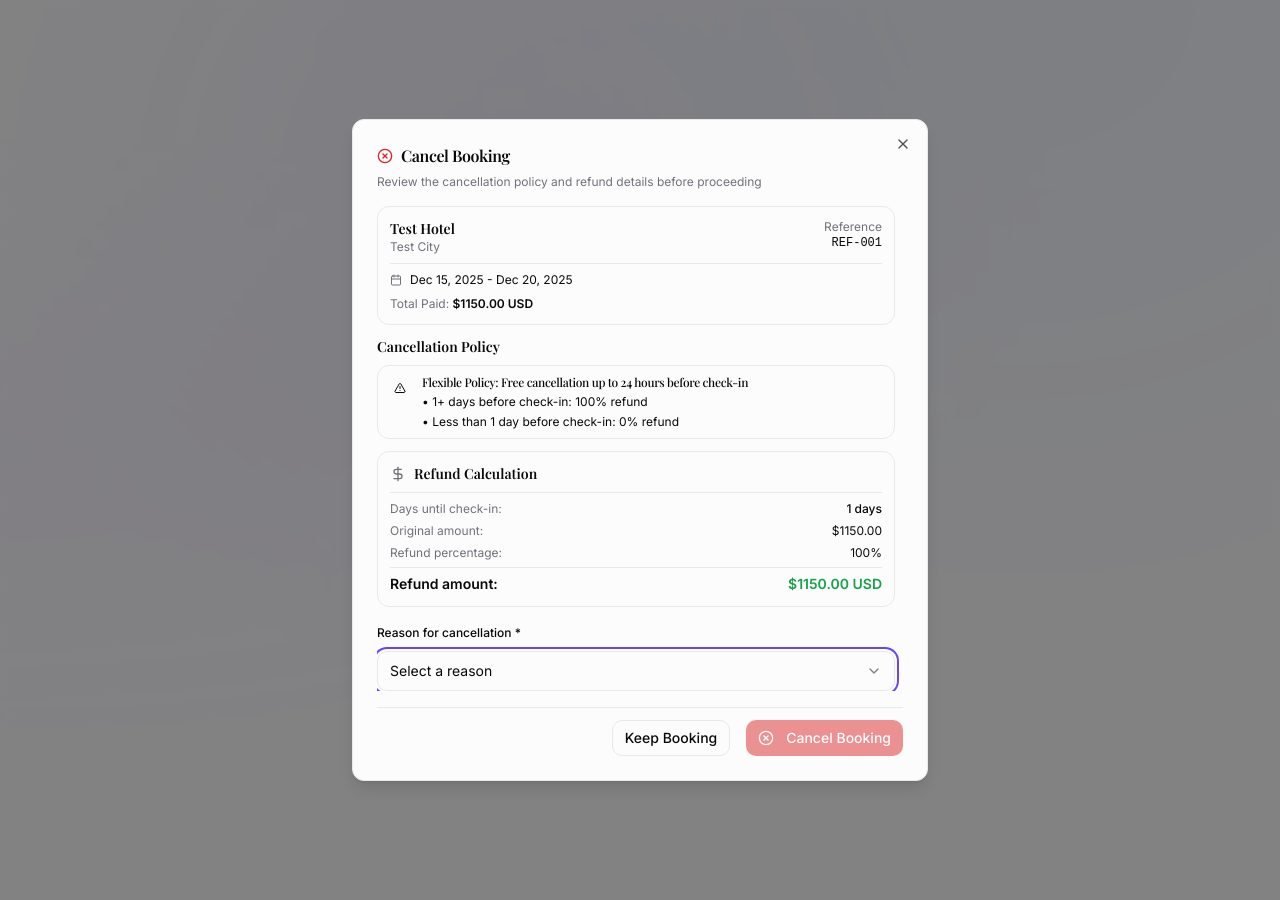
it: CancelBooking › Cancellation Flow › should require reason selection before enabling cancel button
This screenshot has width=1280, height=900.
Check: the button "Cancel Booking" is disabled, box [746,720,903,756]
Step 1. Click the dropdown → (441, 670), box [377,651,895,691]
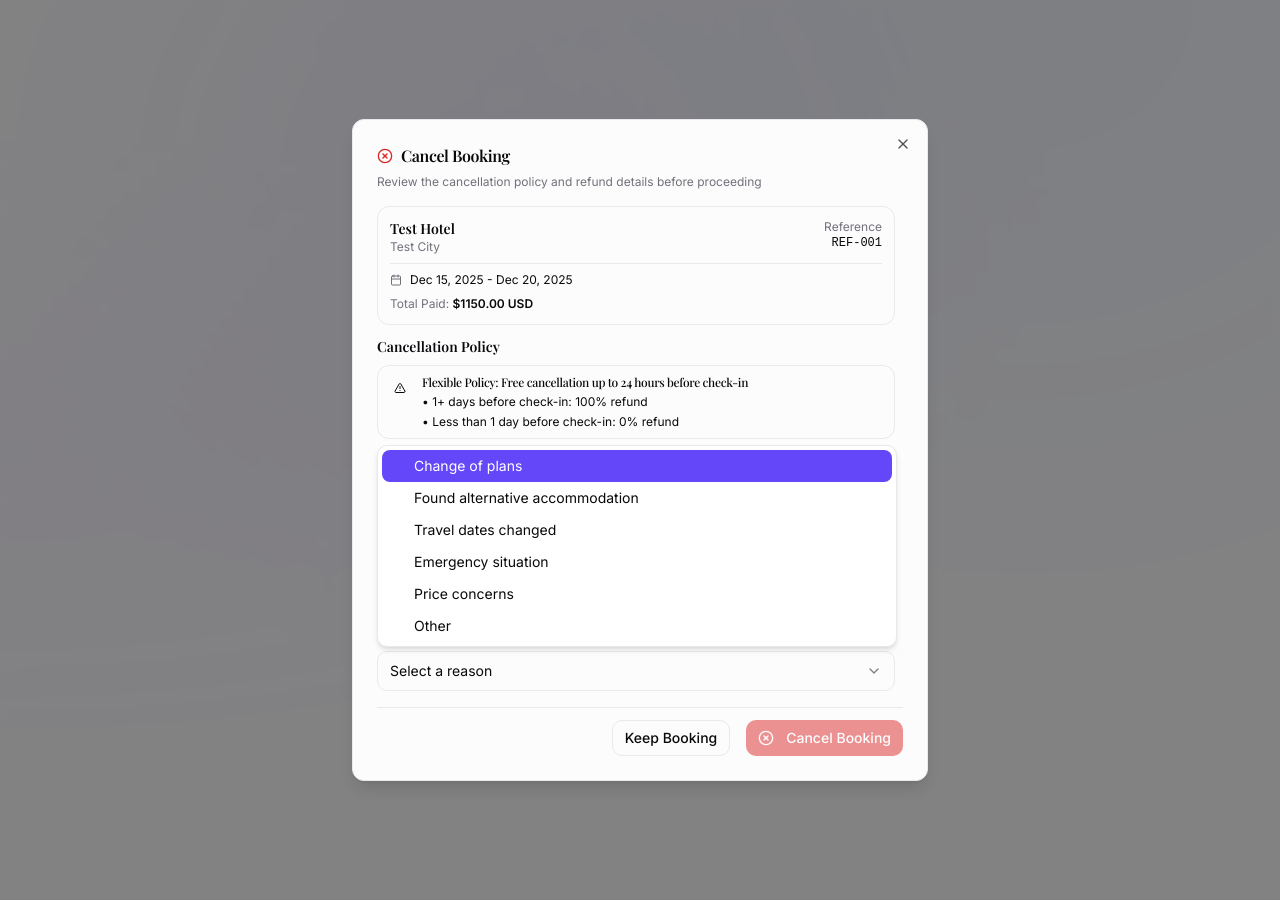
Step 2. Click the option "Change of plans" → (468, 466), box [382,450,892,482]
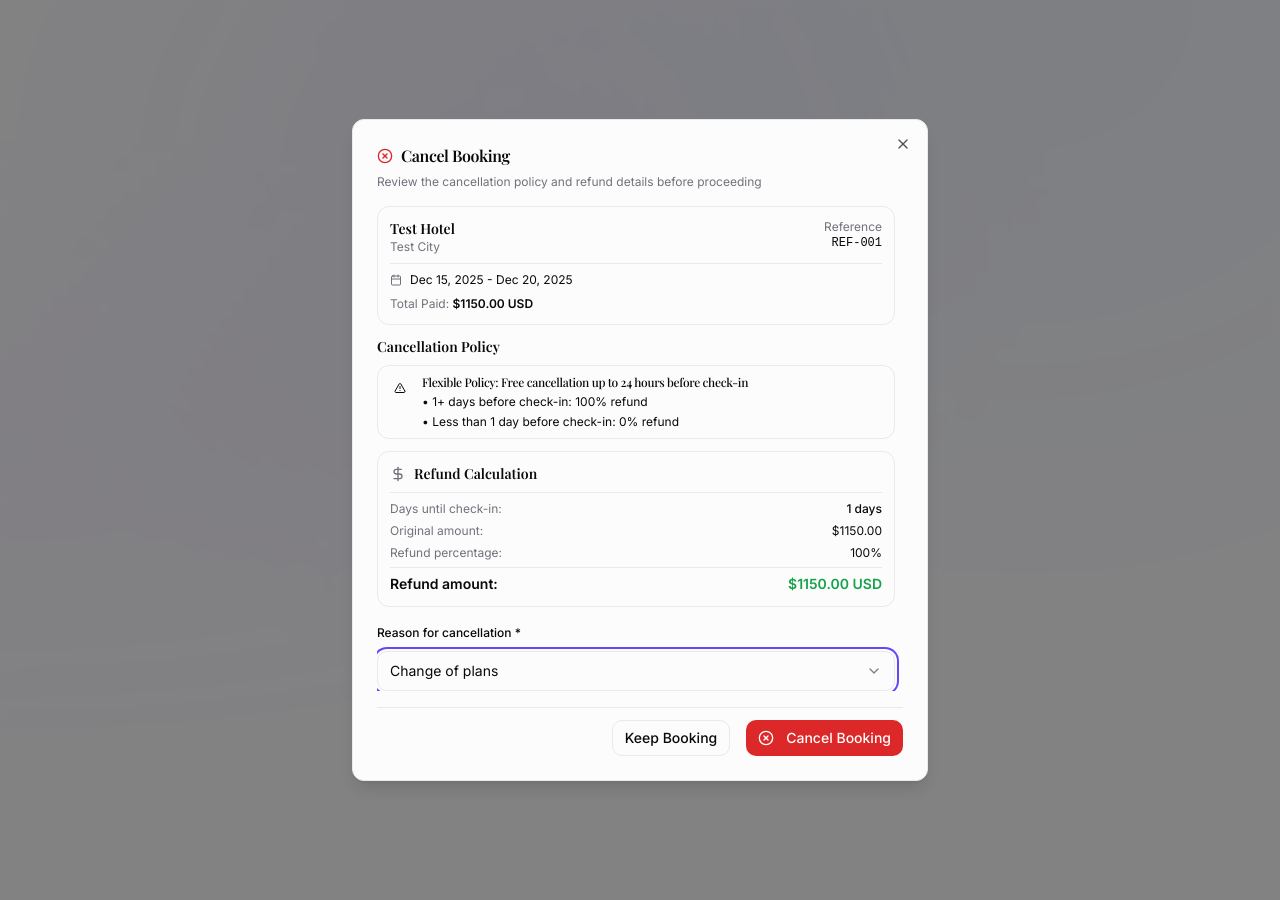
Check: the button "Cancel Booking" is enabled, box [746,720,903,756]
